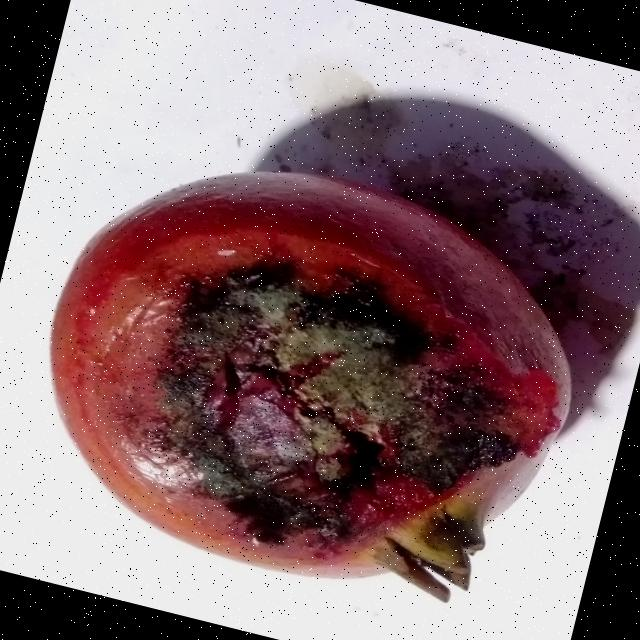Rotten: (0, 111, 615, 637)
